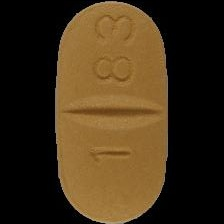33261-684: (0, 0, 224, 224)
